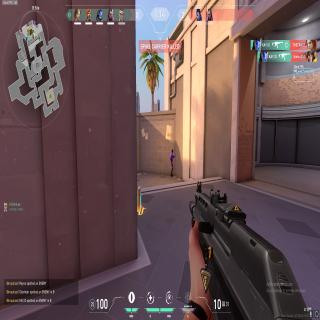ENEMY-BODY: (170, 148, 175, 179)
ENEMY-HEAD: (172, 150, 174, 154)
